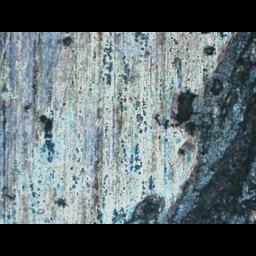d: (120, 32, 255, 223)
